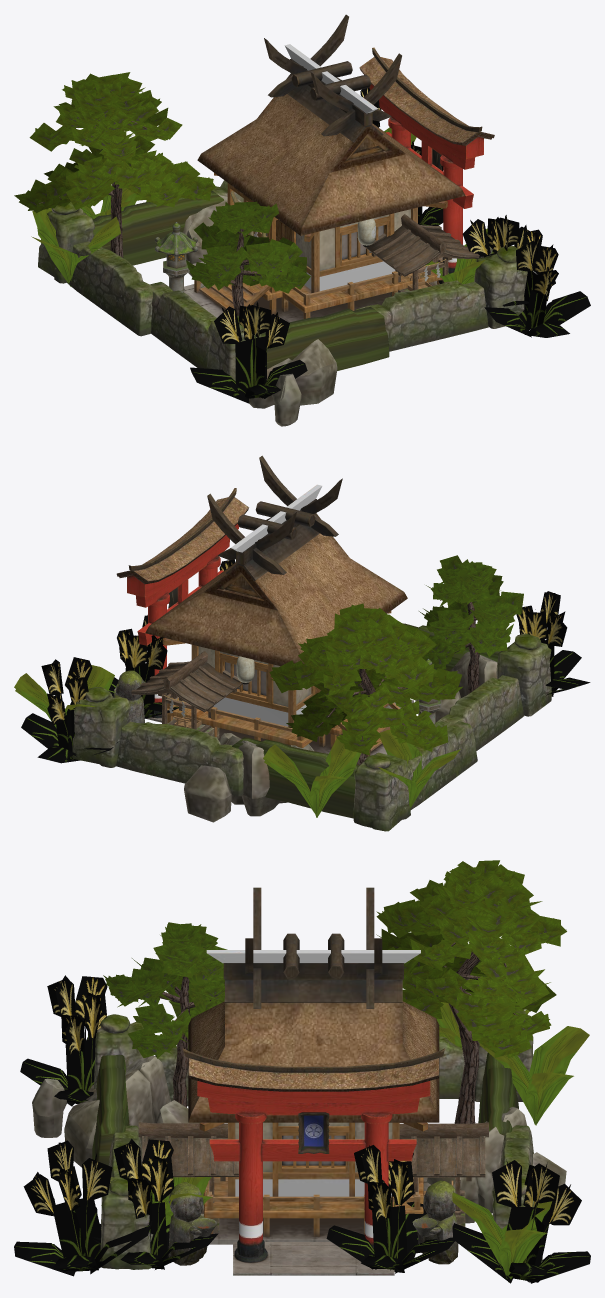
Rendered from 119-shrineofthehunt.glb.
The picture shows the model from 3 angles, top to bottom: view 1: azimuth 30°, elevation 25°; view 2: azimuth 150°, elevation 25°; view 3: azimuth 270°, elevation 25°; orthographic projection. The views are drawn at different scales.
Bounding box in the file's own units: 7.95 × 4.7 × 7.79.
16 materials, 16 textured.
